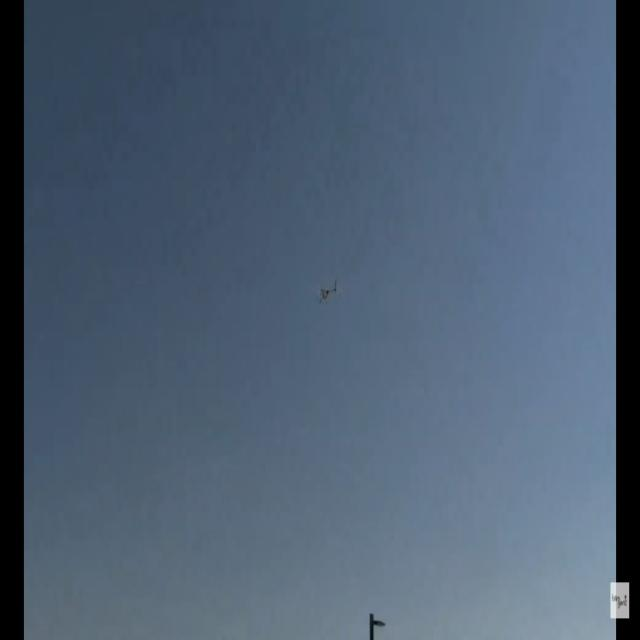iha: (311, 279, 330, 306)
